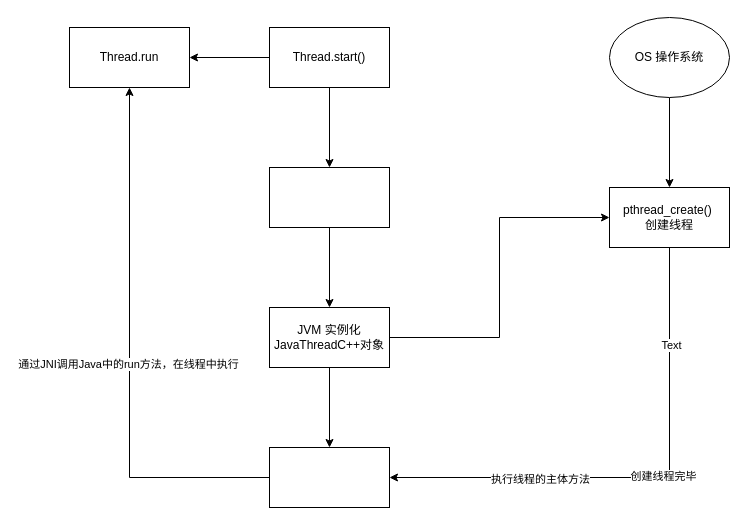
The diagram is 747 pixels wide and 525 high, and some of its shapes have lost their labels. The shapes that lost their labels are listed below. From the top down, each one's box as (x1, y1, x2, y2) in pixels, then its label:
(268, 166, 390, 228): native start0()
(268, 446, 390, 508): JNI
